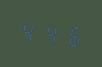four: (18, 17, 38, 45), (40, 19, 60, 47)
six: (61, 20, 81, 49)
